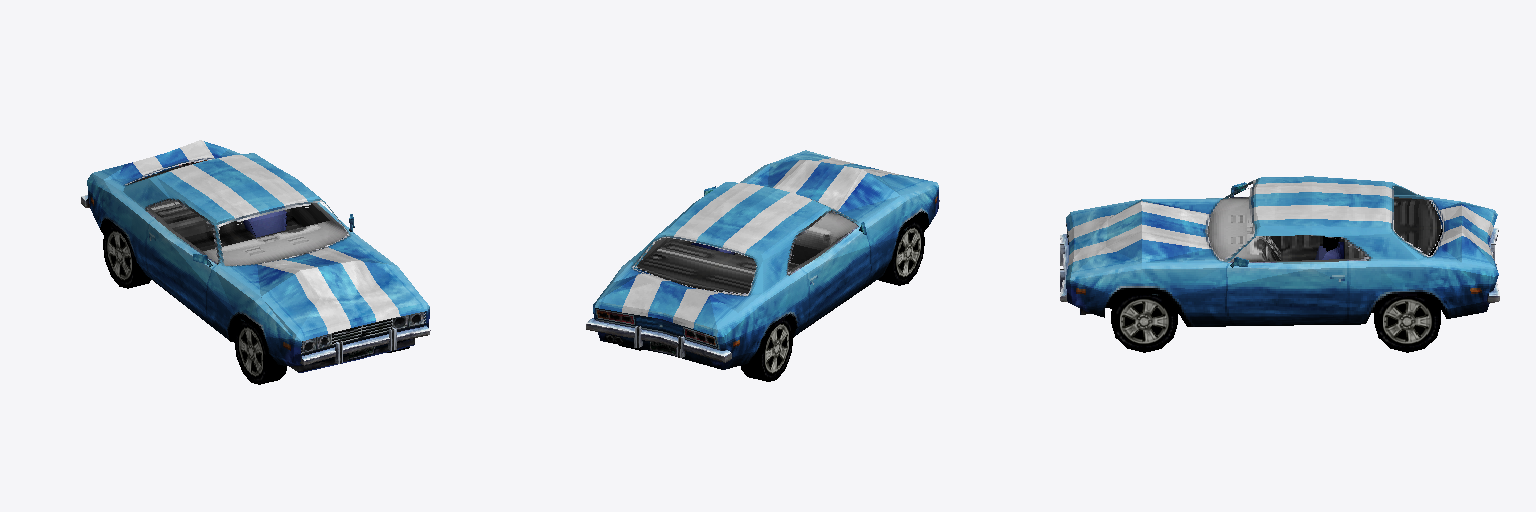
3 views of the same model, side by side, from view 1: azimuth 30°, elevation 25°; view 2: azimuth 150°, elevation 25°; view 3: azimuth 270°, elevation 25° (orthographic).
Parts seen in each view (by area): view 1: car_05_dam, cleanwheel; view 2: car_05_dam, cleanwheel; view 3: car_05_dam, cleanwheel.
Boxes of the visible parts, box(x1,y1,x2,y2) form: car_05_dam: box(81, 140, 430, 372); cleanwheel: box(103, 226, 409, 384); car_05_dam: box(586, 150, 939, 369); cleanwheel: box(619, 220, 924, 381); car_05_dam: box(1060, 176, 1499, 326); cleanwheel: box(1111, 292, 1440, 352).
Size of the model in its own units: 82.16 by 57.78 by 194.
Materials: 2 (2 with a texture image).